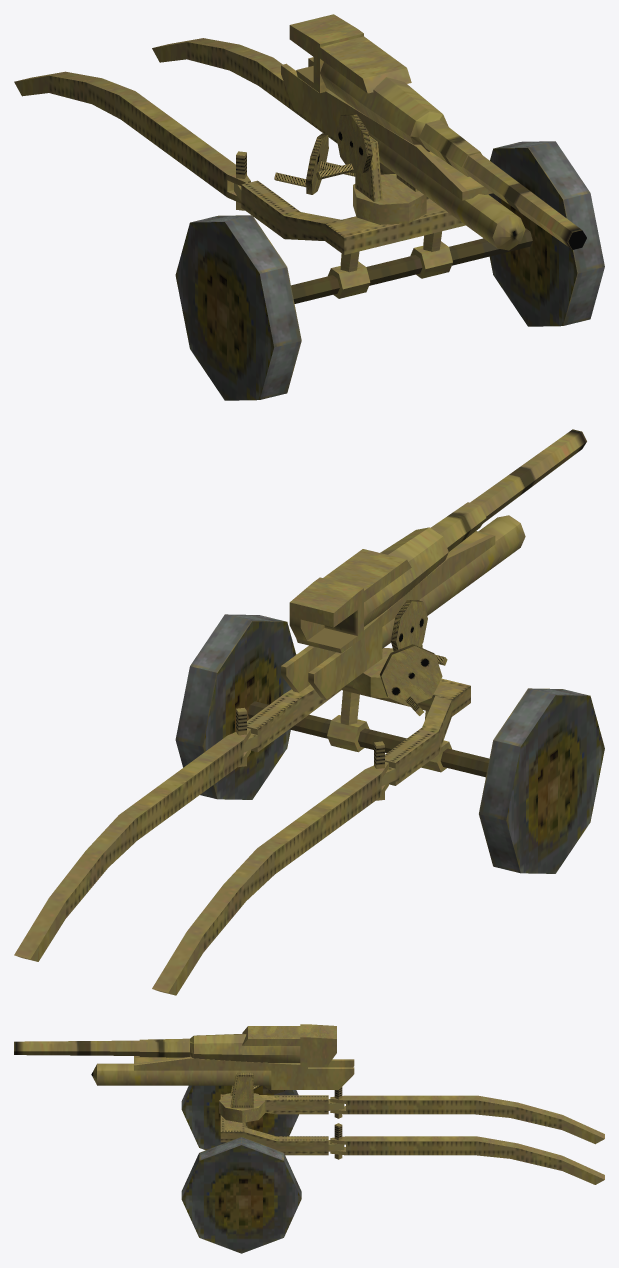
The model's file is ITACannone47.dae.
The picture shows the model from 3 angles, top to bottom: view 1: azimuth 30°, elevation 25°; view 2: azimuth 150°, elevation 25°; view 3: azimuth 270°, elevation 25°; orthographic projection. The views are drawn at different scales.
Parts seen in each view (by area): view 1: wheels, sleeve, barrel, carriage, trail1, turret, trail2; view 2: wheels, sleeve, barrel, trail1, trail2, carriage, turret; view 3: wheels, sleeve, barrel, trail1, trail2, carriage, turret.
Part boxes in pixels (box(x1,y1,x2,y2)): wheels: box(175, 141, 604, 400); sleeve: box(281, 57, 525, 250); barrel: box(289, 14, 586, 249); carriage: box(234, 151, 465, 298); trail1: box(14, 71, 250, 203); turret: box(274, 114, 426, 224); trail2: box(152, 38, 337, 143); wheels: box(175, 614, 604, 873); sleeve: box(281, 515, 525, 699); barrel: box(289, 429, 586, 653); trail1: box(152, 762, 388, 995); trail2: box(14, 728, 250, 961); carriage: box(236, 678, 470, 800); turret: box(353, 600, 447, 715); wheels: box(181, 1085, 301, 1253); sleeve: box(91, 1034, 354, 1089); barrel: box(14, 1024, 336, 1066); trail1: box(330, 1095, 604, 1144); trail2: box(330, 1136, 604, 1184); carriage: box(220, 1087, 344, 1159); turret: box(219, 1072, 285, 1122).
Size of the model in its own units: 10.13 by 25.81 by 8.38.
